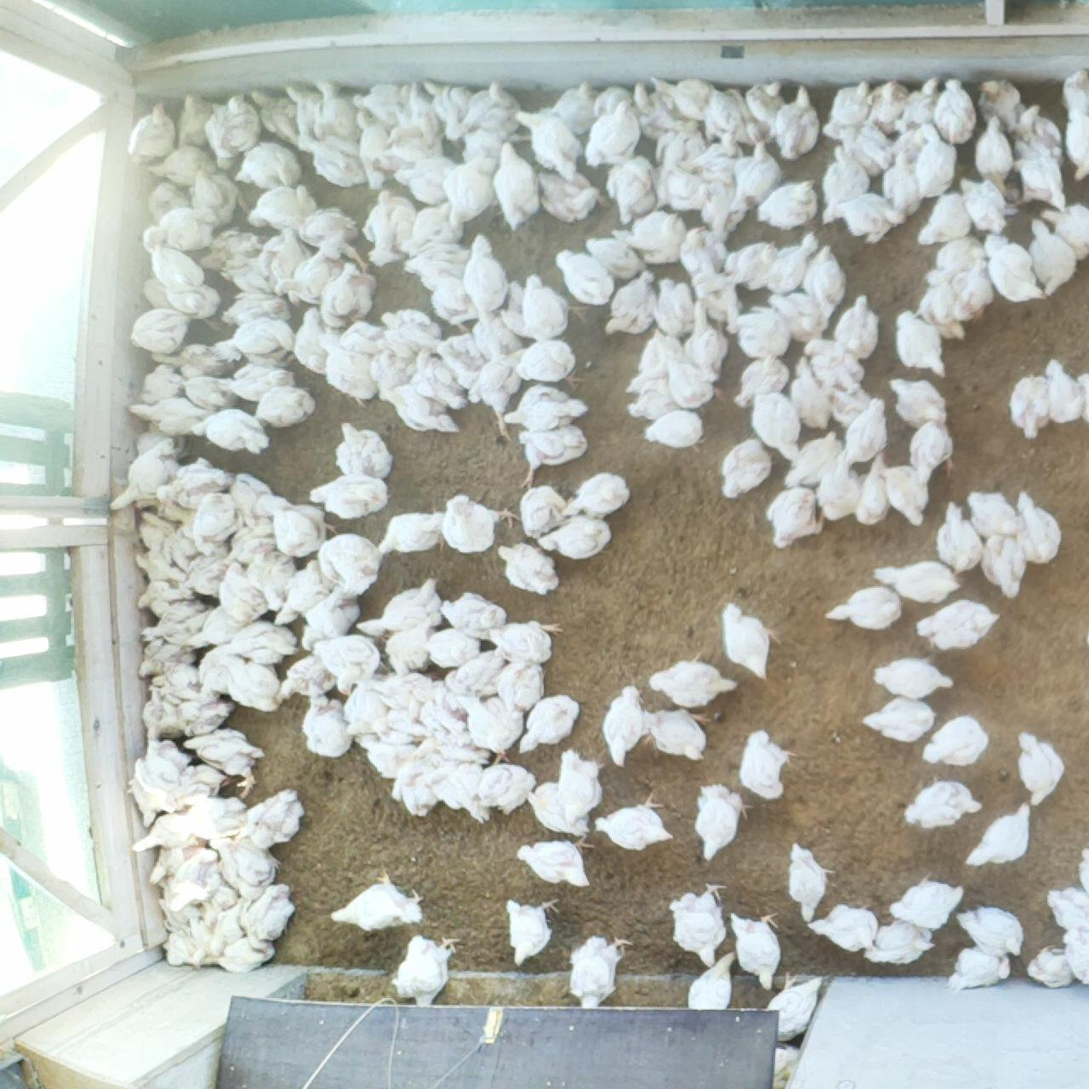chicken: (329, 868, 426, 933), (107, 435, 182, 517), (862, 150, 924, 247), (182, 727, 263, 800), (356, 574, 446, 639), (457, 80, 525, 164), (513, 103, 586, 181), (468, 347, 528, 440), (252, 496, 335, 562), (566, 934, 635, 1013), (391, 933, 462, 1009), (455, 693, 529, 765), (651, 651, 740, 710), (525, 779, 598, 850), (513, 423, 590, 490), (667, 882, 727, 967), (295, 204, 368, 273), (501, 381, 591, 436), (981, 232, 1049, 304), (726, 907, 784, 991), (915, 597, 1003, 652), (722, 603, 782, 683), (964, 799, 1033, 868), (443, 144, 497, 232), (595, 788, 670, 851), (362, 188, 420, 269), (692, 781, 750, 862), (211, 318, 296, 373), (461, 231, 511, 324), (313, 632, 384, 697), (902, 774, 982, 831), (888, 871, 964, 931), (521, 274, 588, 342), (300, 680, 356, 761), (601, 683, 655, 767), (380, 381, 462, 436), (157, 452, 234, 510), (445, 494, 519, 554), (518, 829, 593, 888), (425, 759, 494, 823), (205, 92, 262, 169), (580, 99, 640, 172), (211, 837, 280, 900), (238, 787, 307, 850), (816, 143, 871, 222), (273, 553, 333, 625), (624, 326, 683, 399), (764, 970, 823, 1043), (442, 151, 495, 232), (474, 748, 538, 815), (321, 341, 384, 409), (499, 896, 560, 966), (139, 202, 218, 256), (741, 727, 797, 803), (317, 262, 377, 332), (537, 164, 607, 224), (495, 141, 542, 230), (516, 692, 582, 755), (787, 842, 837, 925), (297, 132, 368, 190), (1028, 217, 1078, 299), (318, 533, 382, 597), (376, 502, 449, 558), (307, 472, 392, 520), (814, 449, 861, 535), (937, 500, 988, 579), (603, 154, 657, 228), (352, 108, 399, 193), (556, 749, 607, 827), (912, 266, 965, 341), (782, 428, 846, 490), (873, 560, 965, 603), (191, 407, 270, 457), (1015, 729, 1065, 808), (125, 757, 179, 830), (891, 309, 948, 378), (762, 229, 819, 298), (604, 269, 660, 339), (685, 298, 731, 383), (614, 211, 687, 264), (920, 714, 989, 770), (537, 513, 614, 563), (191, 166, 251, 230), (383, 79, 442, 144), (1009, 148, 1067, 214), (956, 904, 1025, 959), (512, 336, 582, 390), (139, 597, 216, 646), (187, 491, 243, 558), (559, 471, 634, 521), (751, 391, 801, 466), (222, 617, 300, 665), (827, 190, 905, 238), (485, 619, 566, 665), (274, 248, 343, 302), (862, 694, 938, 743), (402, 198, 465, 257), (757, 175, 821, 233), (249, 185, 319, 238), (123, 396, 207, 440), (234, 140, 305, 192), (873, 653, 955, 698), (825, 585, 903, 632), (765, 488, 825, 549), (302, 590, 361, 652), (409, 346, 467, 409), (438, 322, 490, 392), (922, 233, 988, 288), (734, 138, 783, 212), (181, 601, 252, 652), (807, 903, 878, 954), (863, 919, 935, 969), (555, 248, 614, 309), (804, 339, 865, 398), (240, 881, 298, 943), (497, 540, 560, 597), (404, 239, 473, 291), (876, 461, 930, 527), (720, 435, 774, 501), (438, 589, 509, 639), (786, 354, 832, 431), (728, 353, 789, 411), (1015, 489, 1062, 564), (698, 85, 753, 149), (158, 280, 224, 333), (775, 84, 821, 160), (336, 421, 394, 481), (914, 124, 959, 201), (764, 290, 828, 344), (981, 530, 1029, 602), (395, 155, 461, 207), (225, 658, 285, 715), (679, 130, 746, 181), (944, 942, 1011, 993), (647, 708, 710, 762), (126, 100, 179, 164), (169, 847, 220, 913), (647, 74, 713, 125), (150, 341, 234, 381), (652, 117, 708, 177), (839, 116, 893, 178), (336, 316, 412, 360), (1010, 102, 1063, 165), (845, 396, 890, 470), (1037, 200, 1089, 264), (970, 116, 1012, 195), (694, 269, 744, 335), (200, 224, 262, 277), (147, 661, 214, 710), (129, 306, 192, 358), (802, 243, 848, 314), (351, 731, 419, 779), (422, 76, 473, 140), (820, 78, 871, 142), (904, 418, 954, 483), (276, 649, 335, 704), (490, 660, 550, 714), (416, 726, 491, 769), (445, 646, 507, 698), (292, 306, 337, 377), (915, 191, 971, 248), (888, 374, 948, 427), (141, 732, 192, 794), (199, 933, 278, 973), (643, 408, 710, 455), (1005, 373, 1054, 437), (218, 561, 266, 626), (632, 82, 684, 142), (427, 271, 477, 333), (934, 75, 977, 147), (735, 304, 790, 360), (359, 666, 432, 708), (835, 291, 880, 359), (686, 951, 737, 1011), (195, 636, 242, 701), (146, 144, 217, 187), (703, 173, 746, 244), (744, 77, 788, 146), (666, 356, 724, 408), (128, 810, 195, 855), (893, 74, 944, 133), (168, 763, 230, 811), (139, 685, 187, 747), (1040, 361, 1086, 425), (249, 87, 298, 147), (381, 307, 442, 355), (552, 78, 600, 139), (149, 833, 204, 886), (147, 241, 204, 292), (959, 176, 1009, 234), (220, 289, 292, 329), (315, 78, 360, 142), (136, 635, 197, 682), (184, 795, 249, 839), (518, 482, 569, 538), (270, 237, 312, 305), (417, 753, 464, 813), (946, 258, 993, 318), (385, 622, 435, 678), (626, 370, 682, 420), (721, 239, 778, 288), (584, 234, 643, 281), (653, 276, 697, 338), (390, 754, 431, 820), (229, 363, 295, 404), (975, 80, 1023, 136), (255, 385, 317, 428), (681, 225, 726, 284), (470, 306, 521, 358), (412, 674, 469, 720), (865, 76, 911, 133), (650, 165, 708, 210), (966, 489, 1020, 536), (423, 626, 482, 669), (176, 93, 220, 150), (264, 548, 300, 617), (855, 453, 888, 528), (231, 470, 279, 521), (134, 422, 195, 462), (284, 82, 322, 146), (371, 706, 430, 747), (825, 380, 874, 429), (339, 680, 386, 731), (1025, 943, 1075, 990), (381, 130, 444, 167), (199, 872, 241, 927), (135, 578, 191, 619), (183, 693, 235, 737), (254, 226, 299, 276), (224, 522, 276, 565), (1046, 882, 1089, 934), (221, 254, 268, 301), (354, 80, 403, 125), (182, 550, 232, 594), (141, 361, 188, 407), (370, 348, 415, 396), (181, 375, 236, 414), (1059, 112, 1089, 183), (418, 696, 468, 738), (130, 548, 187, 584), (135, 492, 197, 525), (211, 899, 248, 953), (144, 179, 188, 224), (154, 896, 202, 937), (162, 517, 197, 572), (244, 540, 280, 593), (889, 124, 932, 167), (160, 925, 205, 966), (183, 908, 221, 956), (764, 1041, 801, 1089), (502, 279, 531, 337), (587, 83, 634, 118), (1061, 927, 1089, 985), (1058, 66, 1089, 118), (138, 508, 176, 549), (141, 272, 173, 314), (1076, 370, 1089, 425), (1079, 844, 1089, 895)
